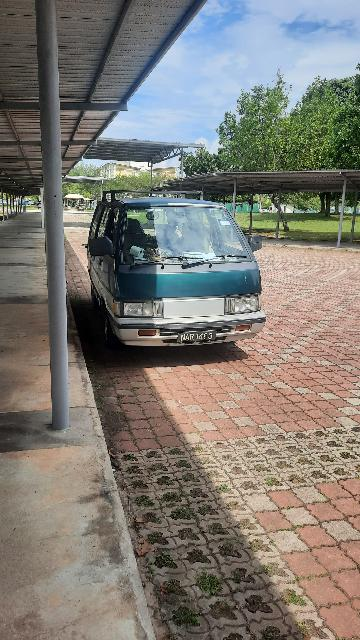License_Plate: (175, 330, 219, 344)
van: (86, 189, 271, 352)
